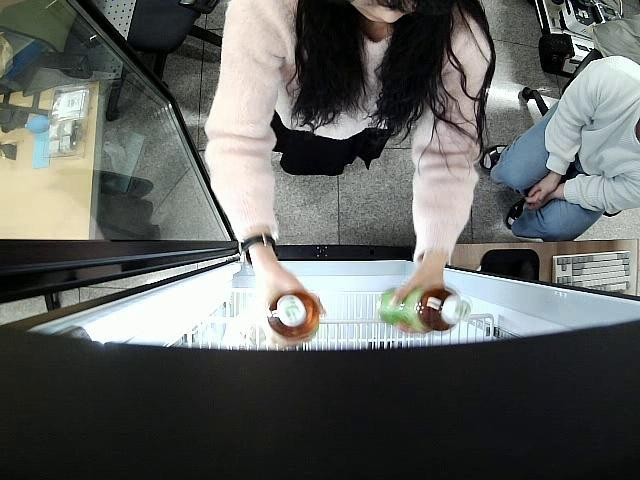19_17cha: (378, 286, 472, 334), (267, 290, 321, 349)
